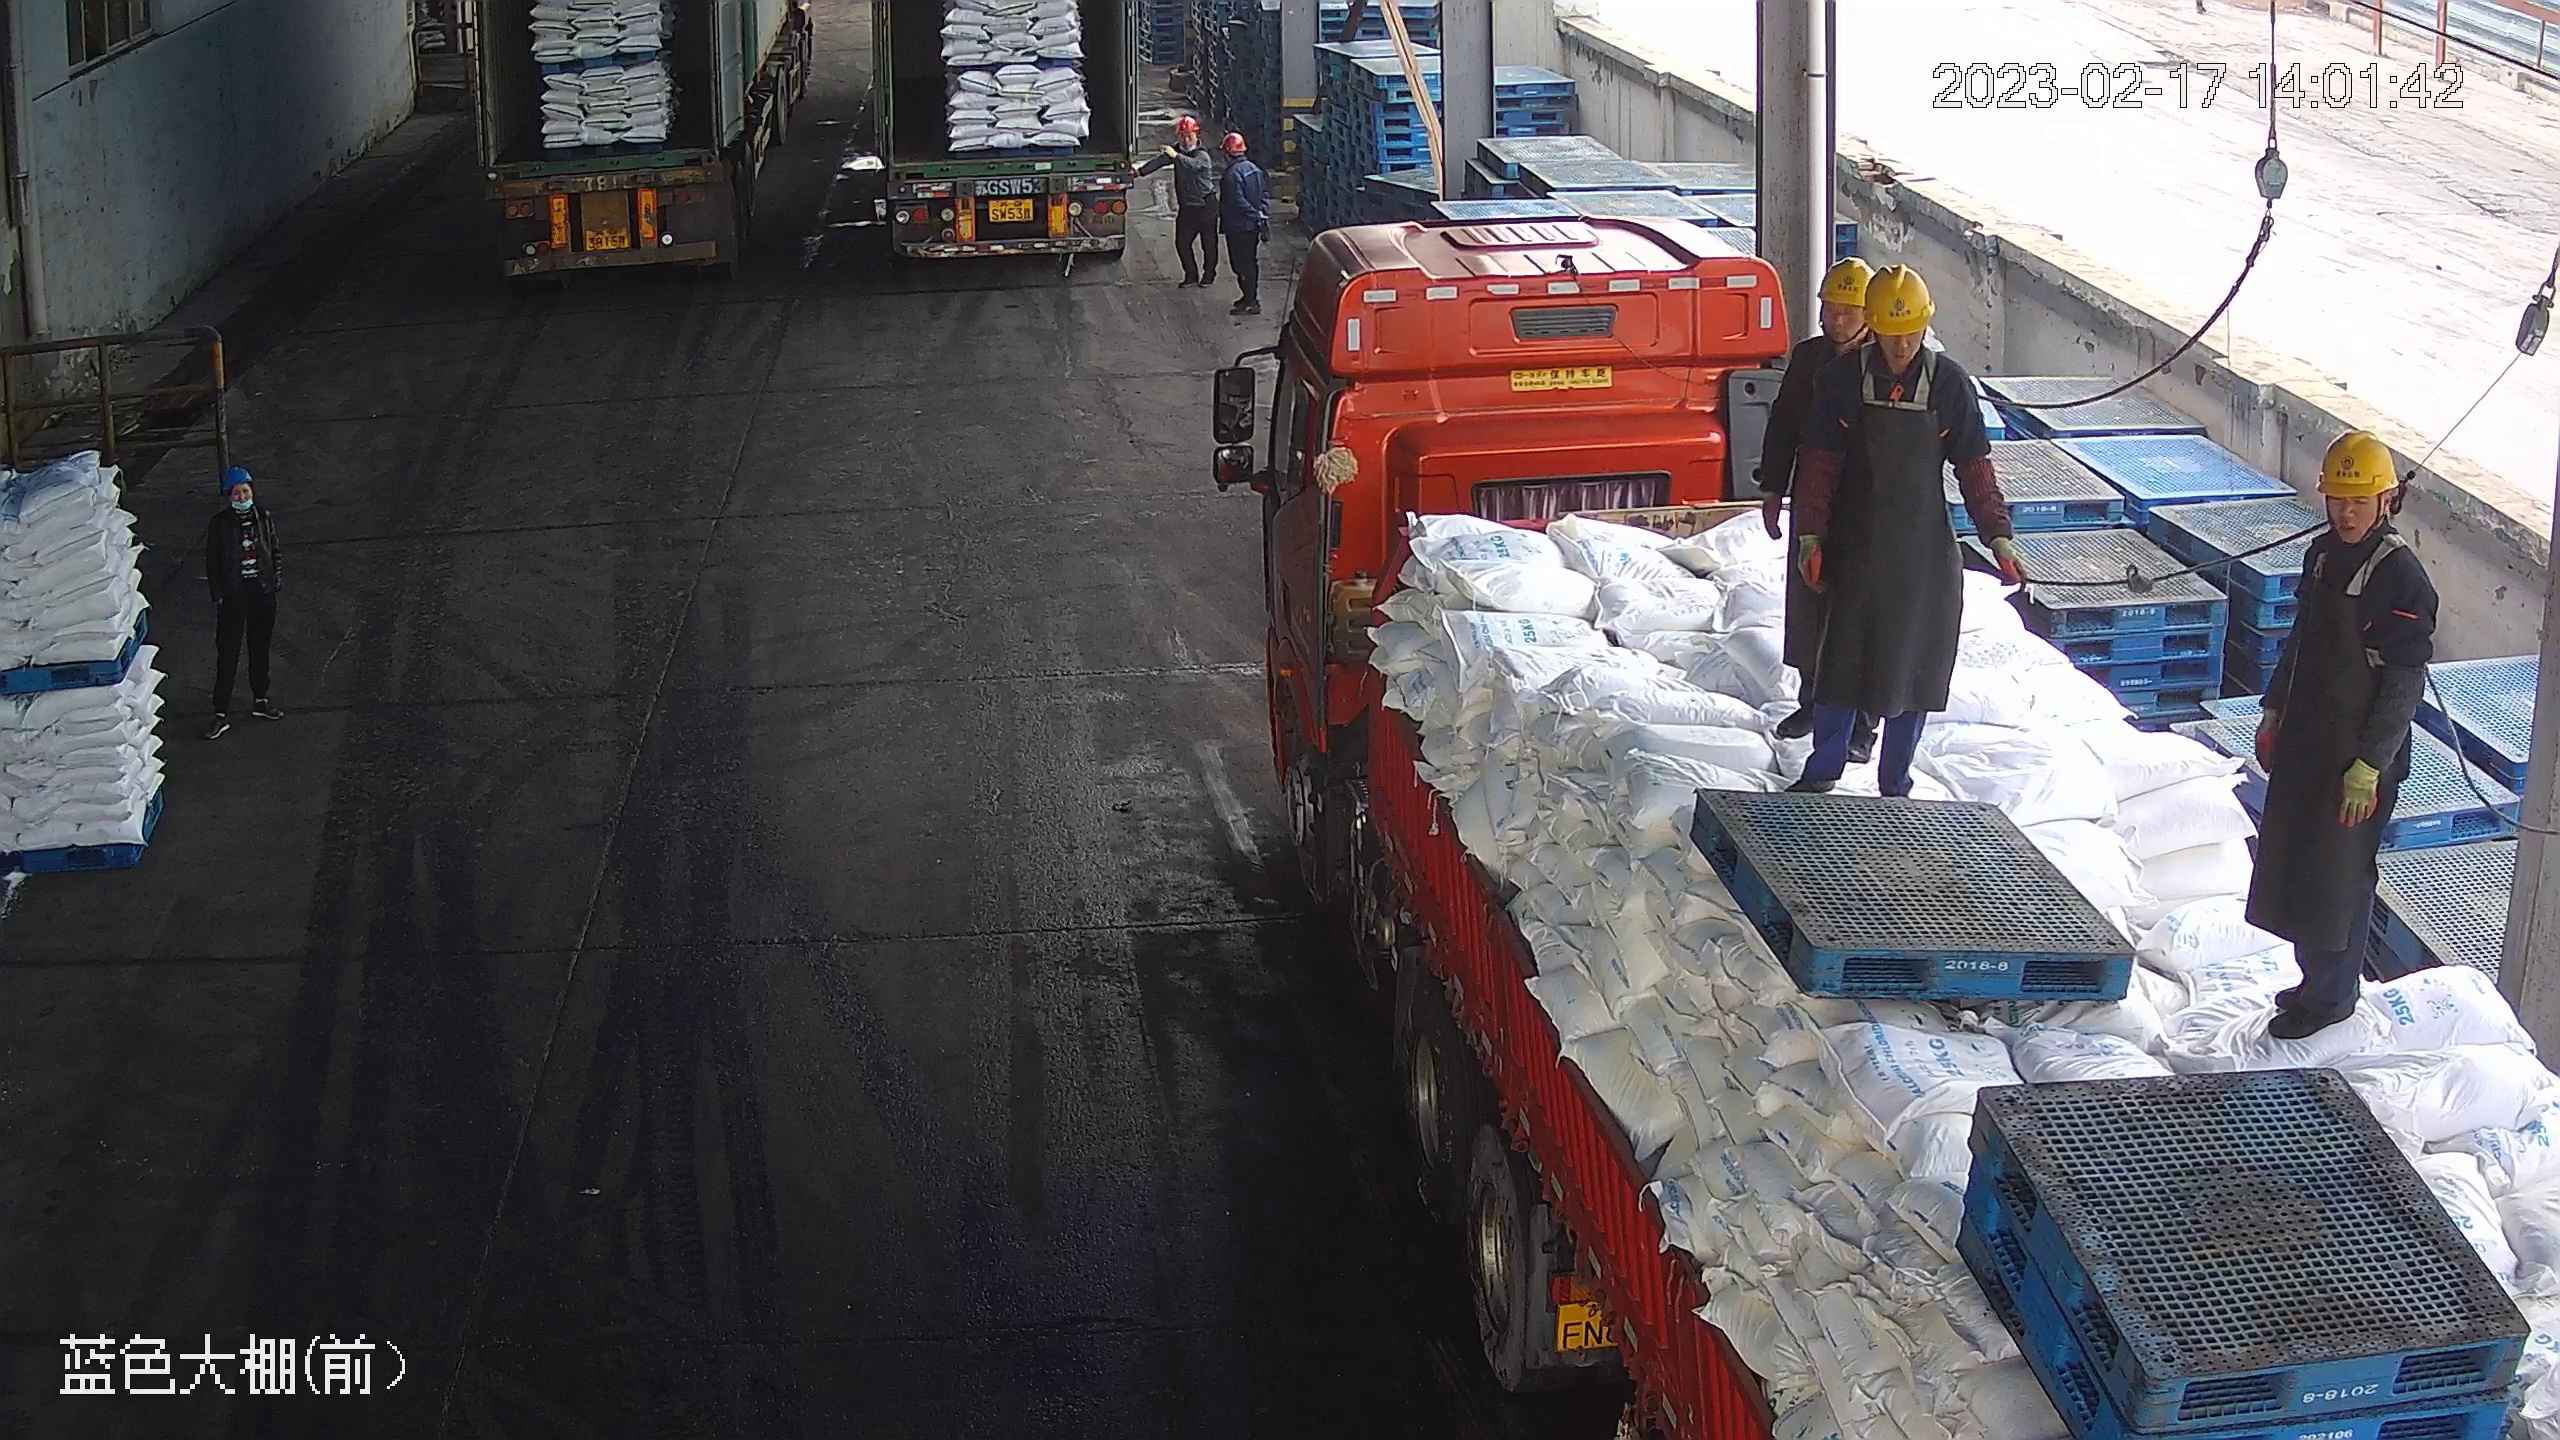belt: (1858, 340, 1990, 420), (2309, 521, 2415, 601)
head: (2255, 422, 2434, 637), (1773, 257, 1978, 413), (208, 466, 274, 551), (1216, 132, 1263, 188), (1162, 123, 1203, 175)
helmet: (2306, 423, 2406, 499), (1859, 259, 1932, 338), (1816, 253, 1873, 307), (223, 467, 254, 492), (1174, 114, 1201, 134), (1222, 131, 1248, 152)
people: (1758, 257, 2026, 799), (2247, 429, 2434, 1048), (205, 463, 282, 732), (1214, 132, 1267, 319), (1159, 122, 1212, 289)
truck: (1213, 211, 2560, 1438), (472, 1, 821, 283), (868, 1, 1130, 263)
